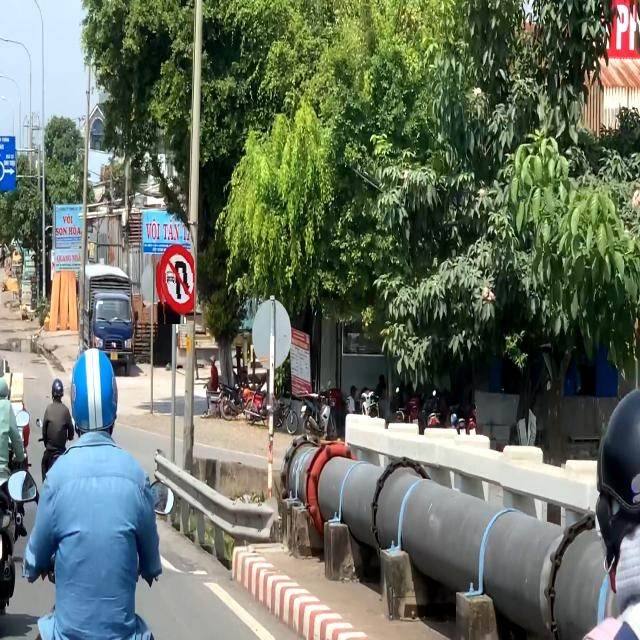bien_cam: (156, 236, 194, 324)
